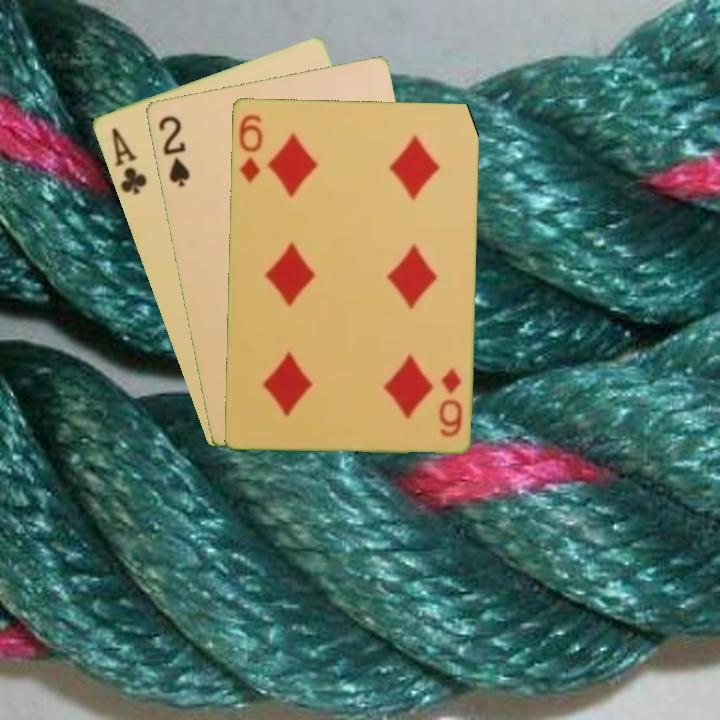2s: (154, 112, 193, 190)
6d: (434, 364, 465, 440), (235, 111, 265, 186)
Ac: (107, 123, 150, 198)
